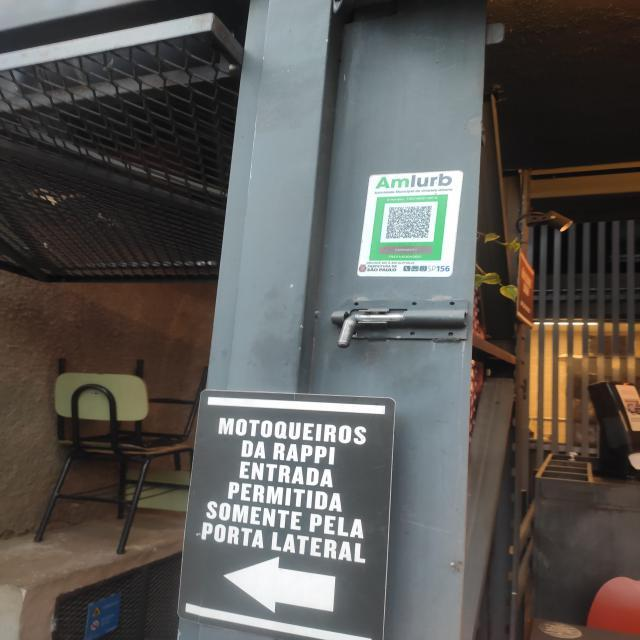qrcode: (387, 207, 432, 239)
